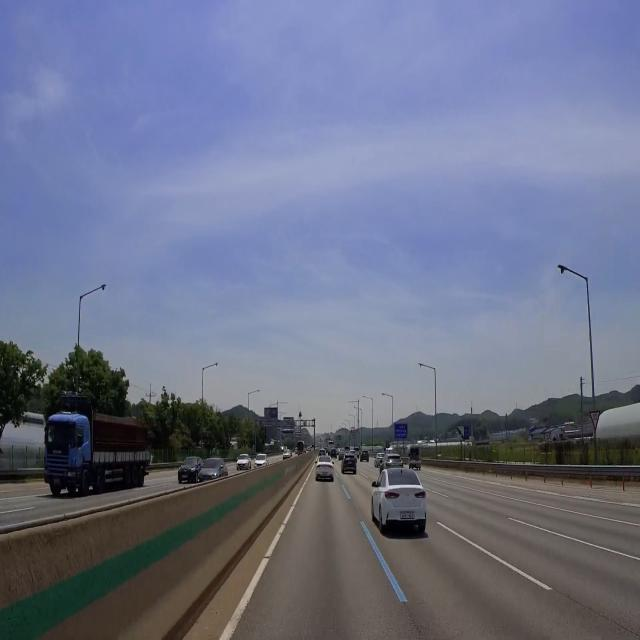car: (399, 510, 417, 523), (50, 477, 63, 489), (345, 458, 355, 471), (181, 469, 189, 484), (319, 469, 331, 478)
